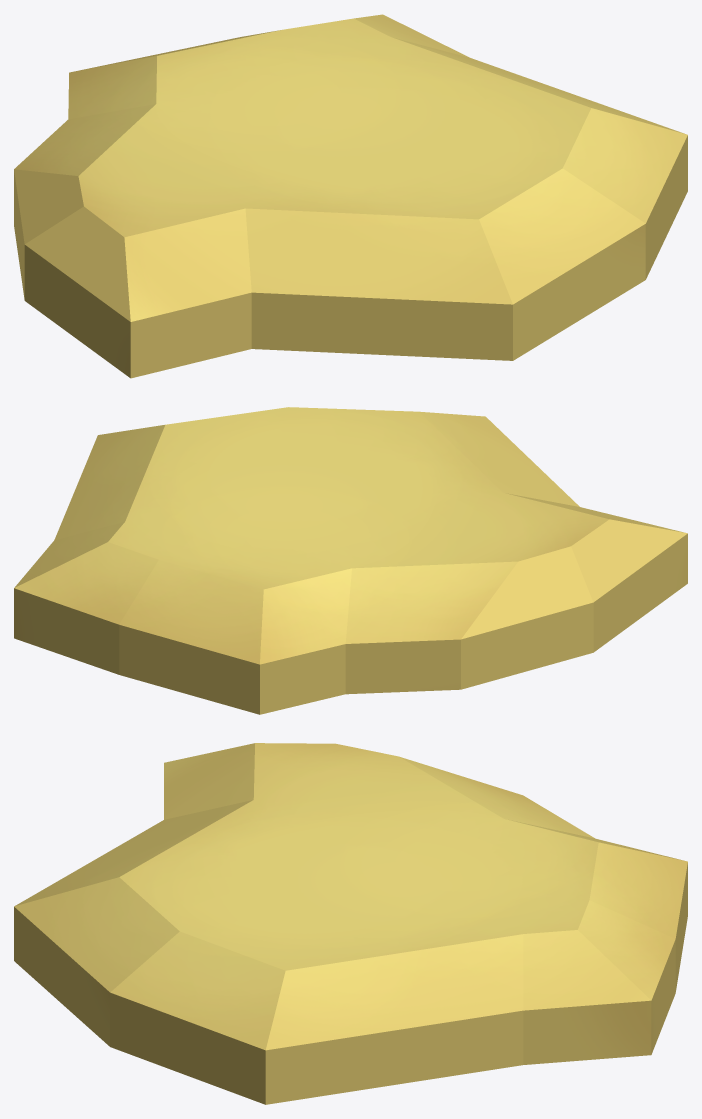
File: FlatRock.fbx
3 renders of one model, top to bottom at view 1: azimuth 30°, elevation 25°; view 2: azimuth 150°, elevation 25°; view 3: azimuth 270°, elevation 25°, orthographic. The views are drawn at different scales.
Visible parts, largest first — view 1: Cube; view 2: Cube; view 3: Cube.
Boxes of the visible parts, box(x1,y1,x2,y2) form: Cube: box(14, 14, 687, 378); Cube: box(14, 407, 687, 714); Cube: box(14, 743, 687, 1104).
Bounding box in the file's own units: 564 × 85.52 × 559.
